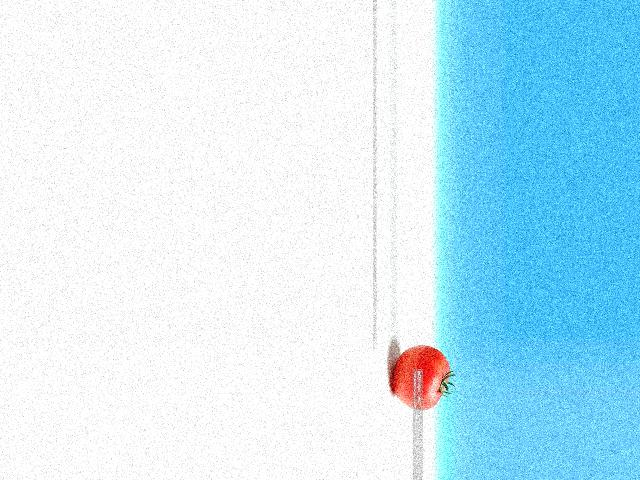tomato: (394, 346, 449, 411)
